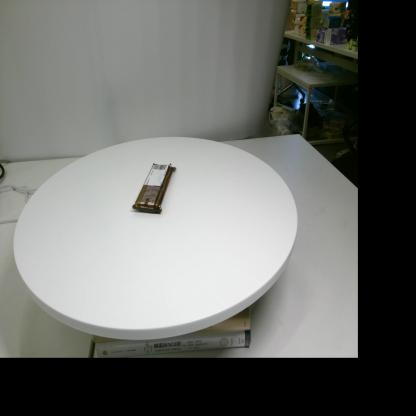Chocolate: (132, 163, 176, 213)
